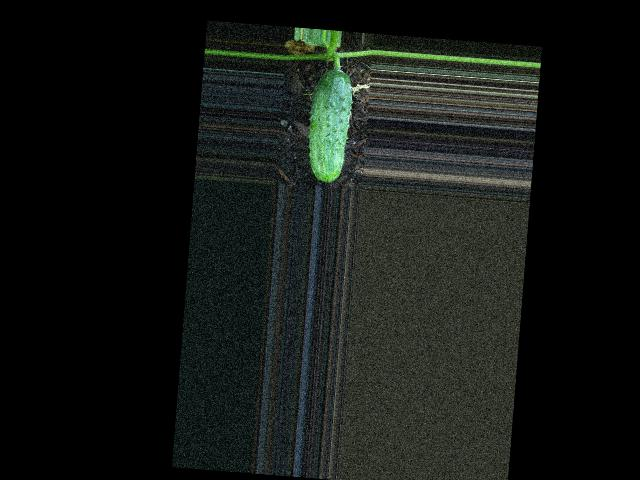cucumber: (304, 68, 354, 184)
